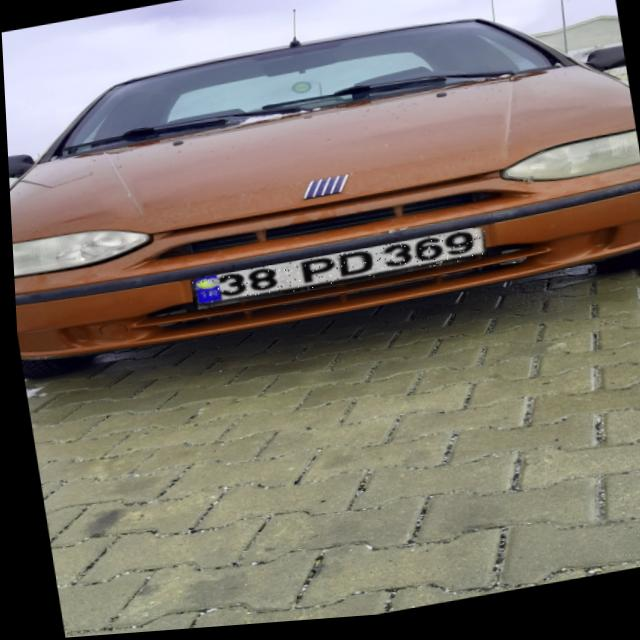license_plate: (185, 234, 485, 312)
